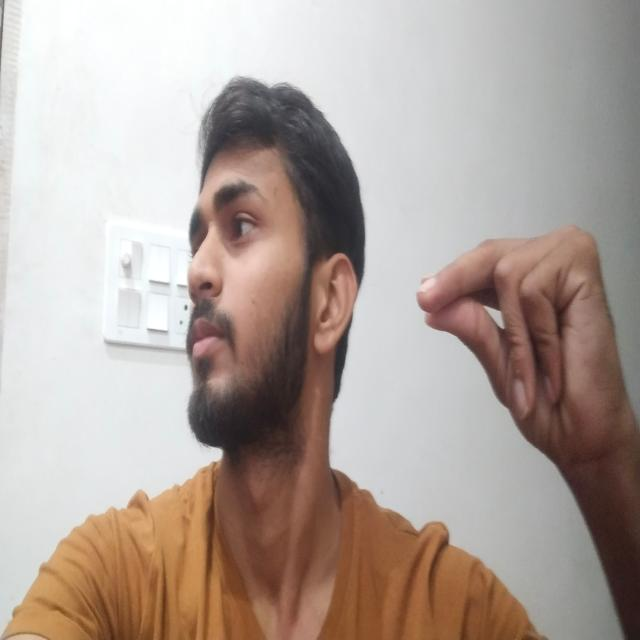No: (404, 171, 634, 513)
